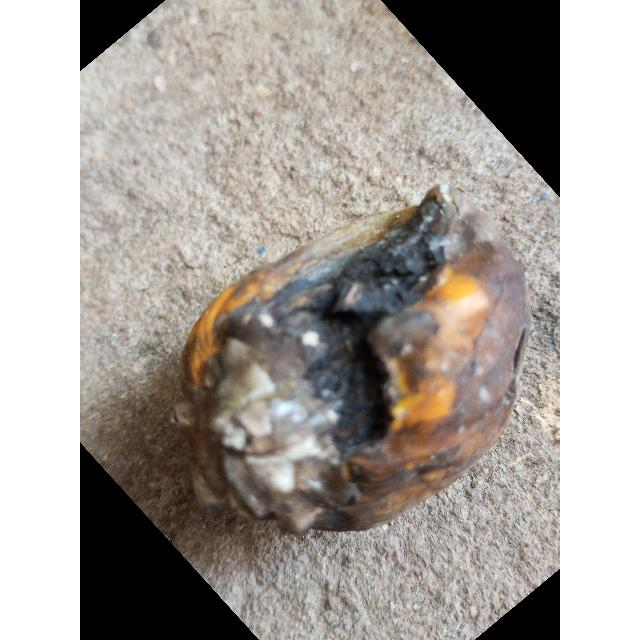damaged: (171, 184, 529, 533)
